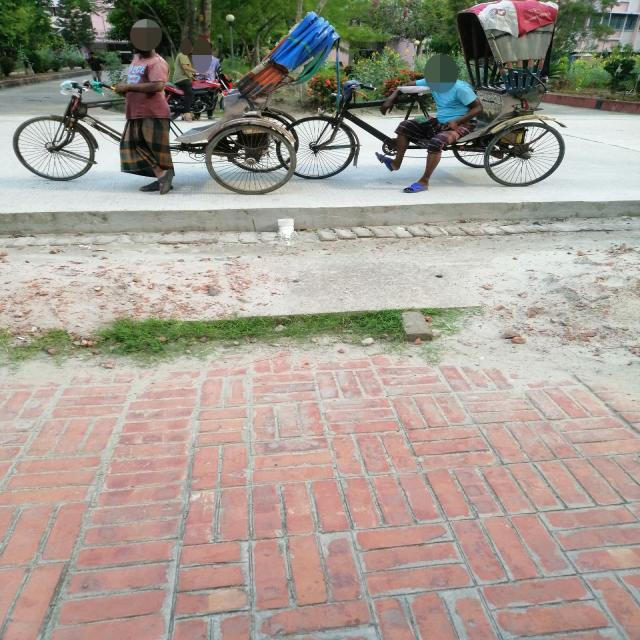Rickshaw: (170, 12, 337, 194), (14, 81, 123, 180)
